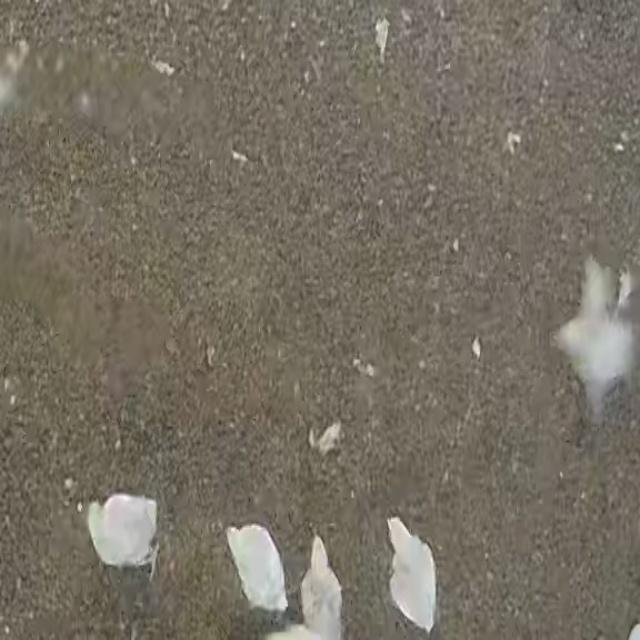chicken: (555, 258, 640, 432), (384, 516, 444, 634), (86, 491, 159, 577), (227, 525, 290, 614), (299, 535, 345, 640)
